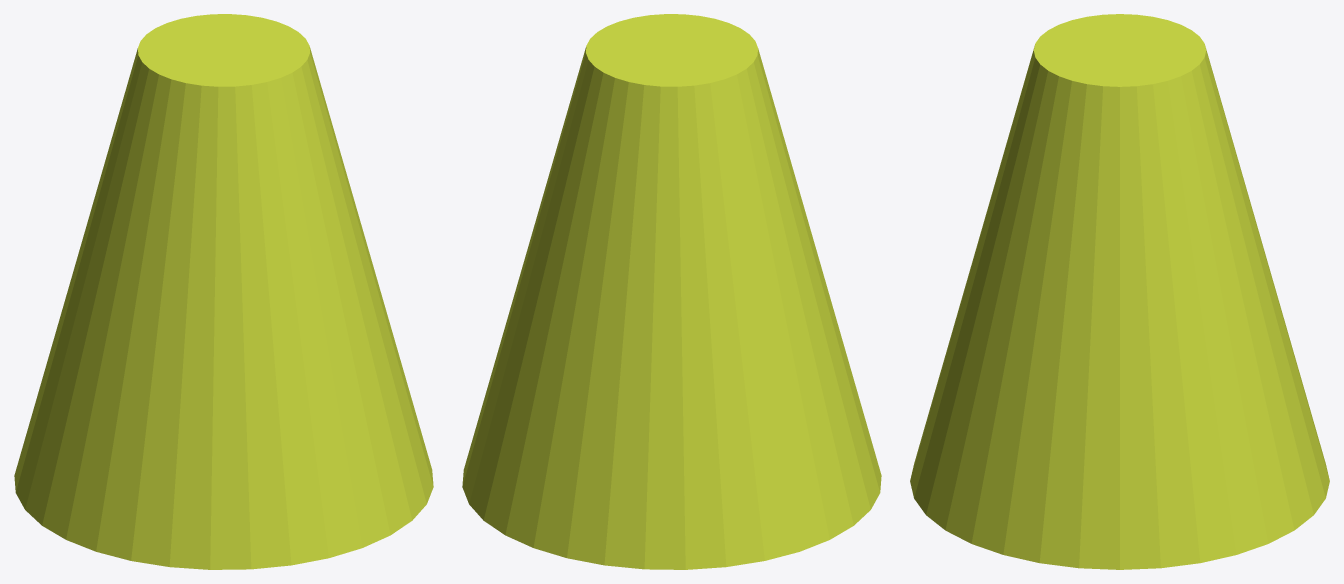
Rendered from bullet.glb.
The picture shows the model from 3 angles, left to right: view 1: azimuth 30°, elevation 25°; view 2: azimuth 150°, elevation 25°; view 3: azimuth 270°, elevation 25°; orthographic projection.
Visible parts, largest first — view 1: Cylinder; view 2: Cylinder; view 3: Cylinder.
Part boxes in pixels (x1,y1,x2,y2): Cylinder: (14, 14, 433, 569); Cylinder: (462, 14, 881, 569); Cylinder: (910, 14, 1329, 569).
Bounding box in the file's own units: 0.5974 × 0.6763 × 0.5974.
